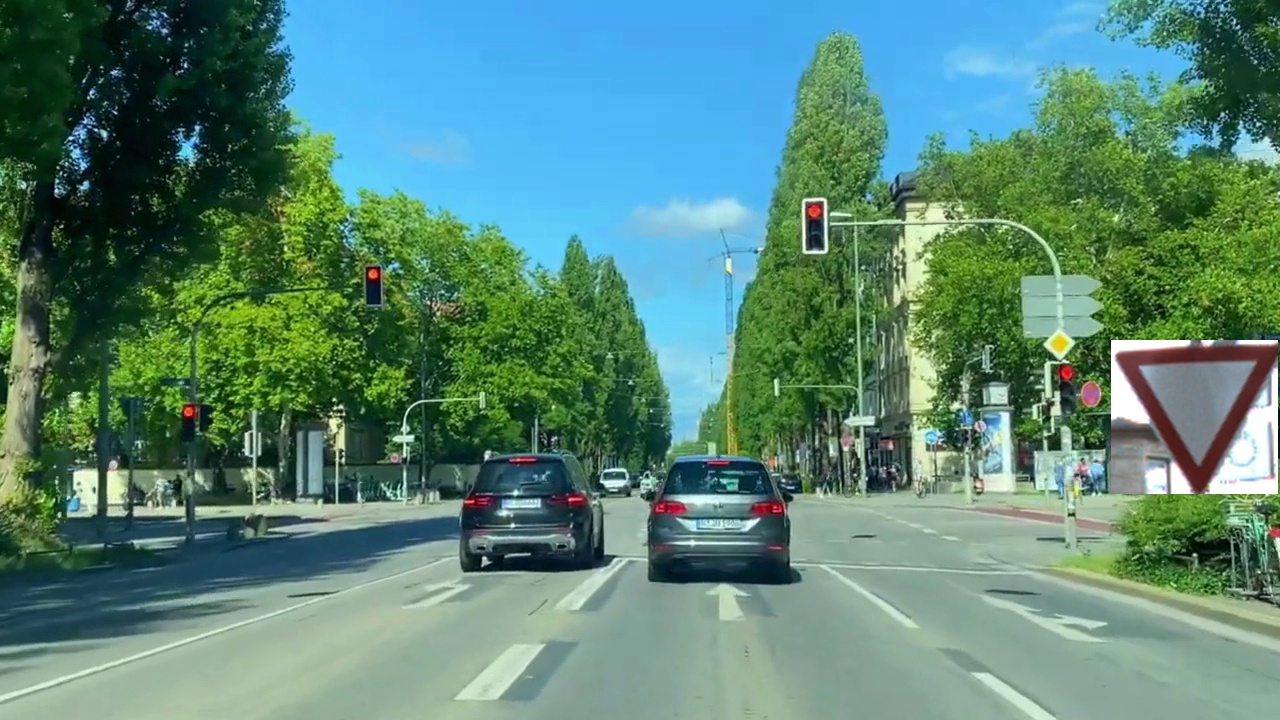Yield: (1111, 340, 1278, 494)
